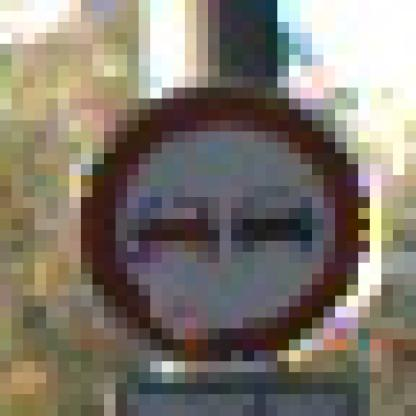No Overtaking: (59, 67, 359, 351)
